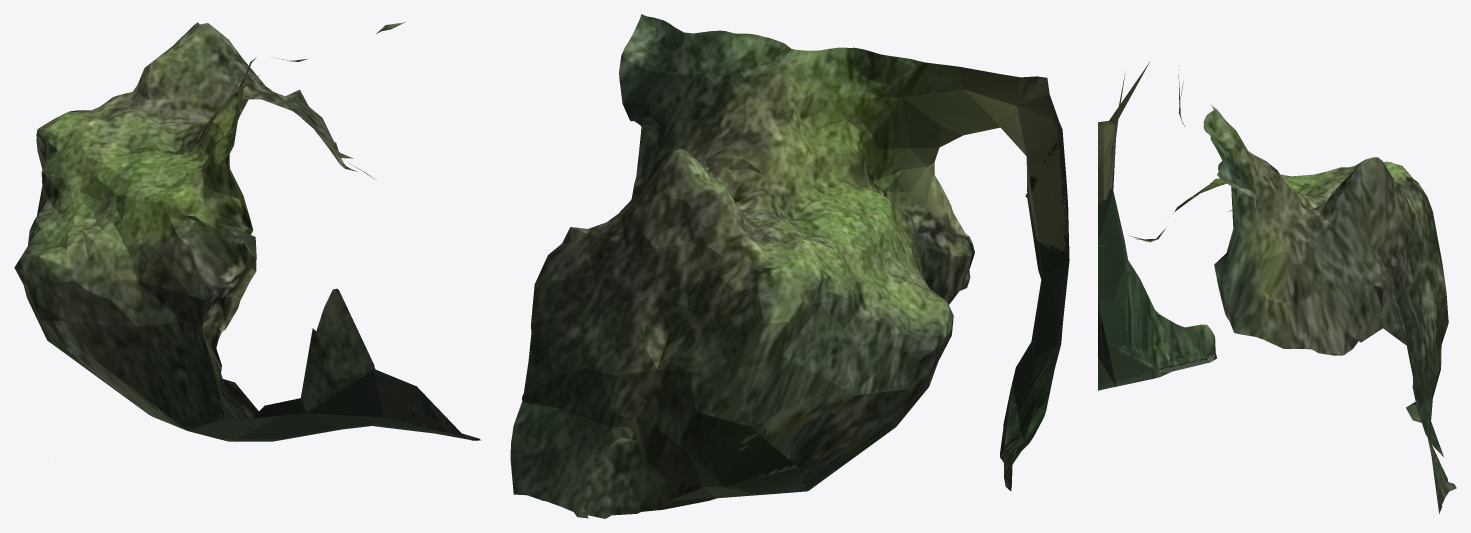
The picture shows the model from 3 angles, left to right: view 1: azimuth 30°, elevation 25°; view 2: azimuth 150°, elevation 25°; view 3: azimuth 270°, elevation 25°; orthographic projection. The views are drawn at different scales.
Size of the model in its own units: 5.9 by 5.9 by 5.57.
5 materials, 5 textured.
